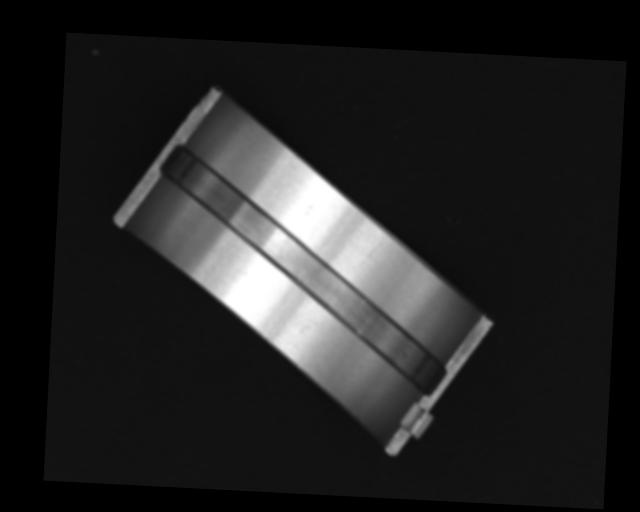gap: (149, 142, 456, 395)
nick: (357, 238, 382, 269)
